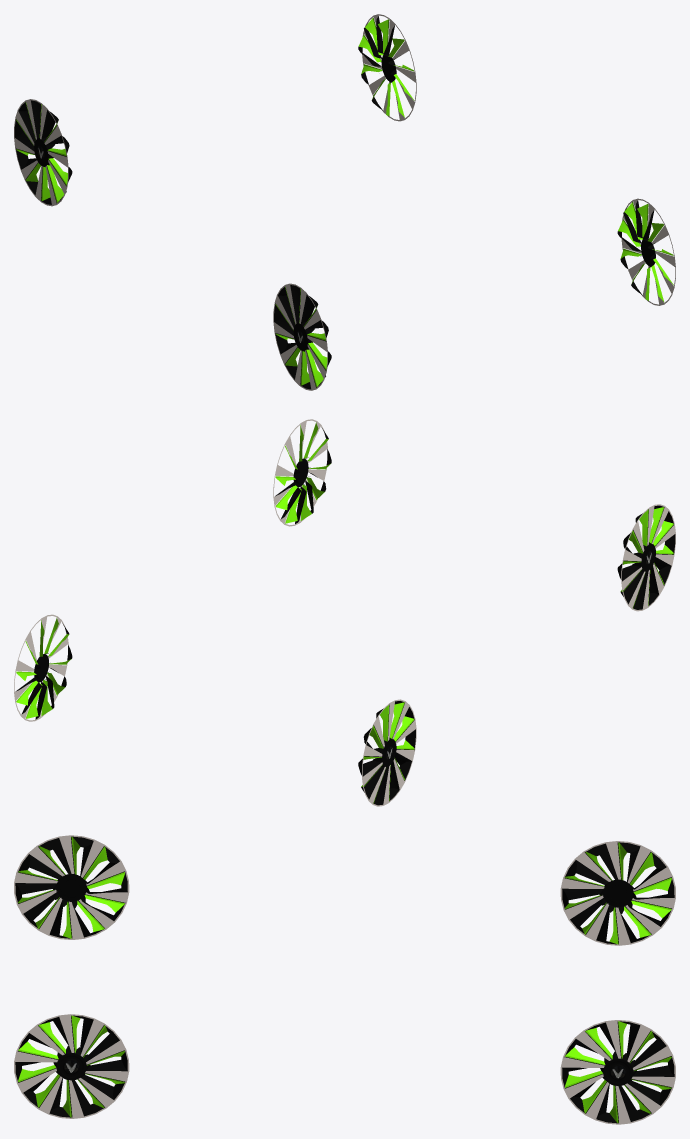
3 renders of one model, top to bottom at view 1: azimuth 30°, elevation 25°; view 2: azimuth 150°, elevation 25°; view 3: azimuth 270°, elevation 25°, orthographic. The views are drawn at different scales.
Parts seen in each view (by area): view 1: 2; view 2: 2; view 3: 2.
Boxes of the visible parts, left/top/right/bottom form: 2: left=14, top=14, right=675, bottom=390; 2: left=14, top=419, right=675, bottom=806; 2: left=14, top=835, right=675, bottom=1124.
Bounding box in the file's own units: 0.9731 × 0.2795 × 1.52.
Materials: 4 (1 with a texture image).
